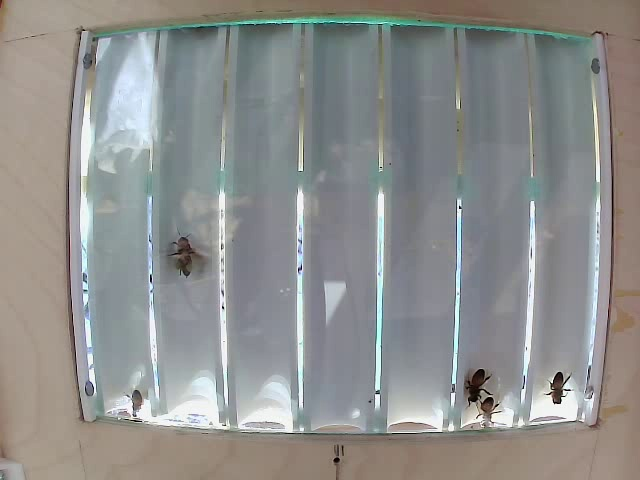bee: (166, 227, 211, 288), (544, 361, 574, 406), (468, 360, 488, 415)
